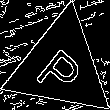P_NE: (31, 35, 90, 98)
